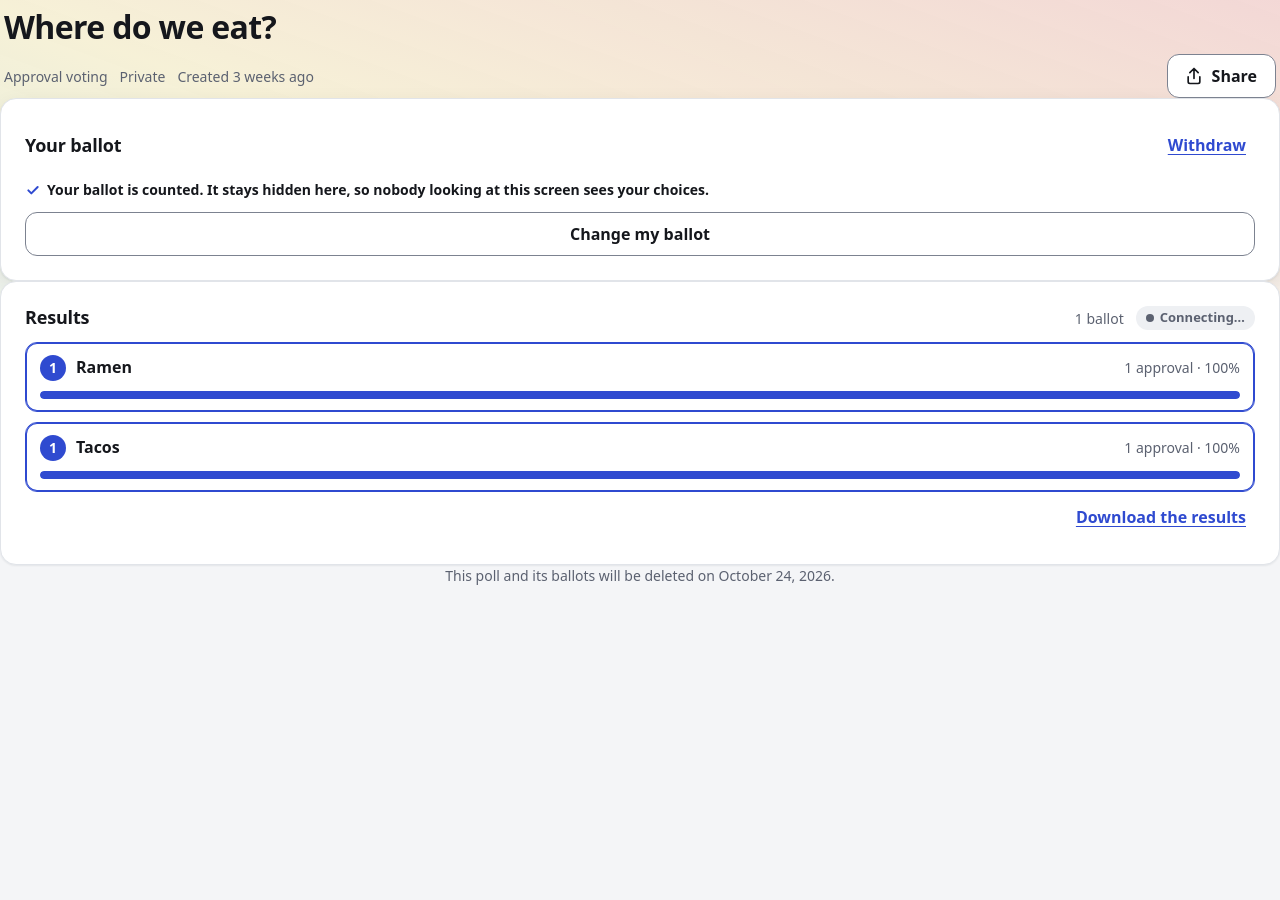
Test: a counted ballot › opens once withdrawn, to vote again
Step 1. Click the button "Withdraw" → (1207, 145), box [1159, 123, 1255, 167]
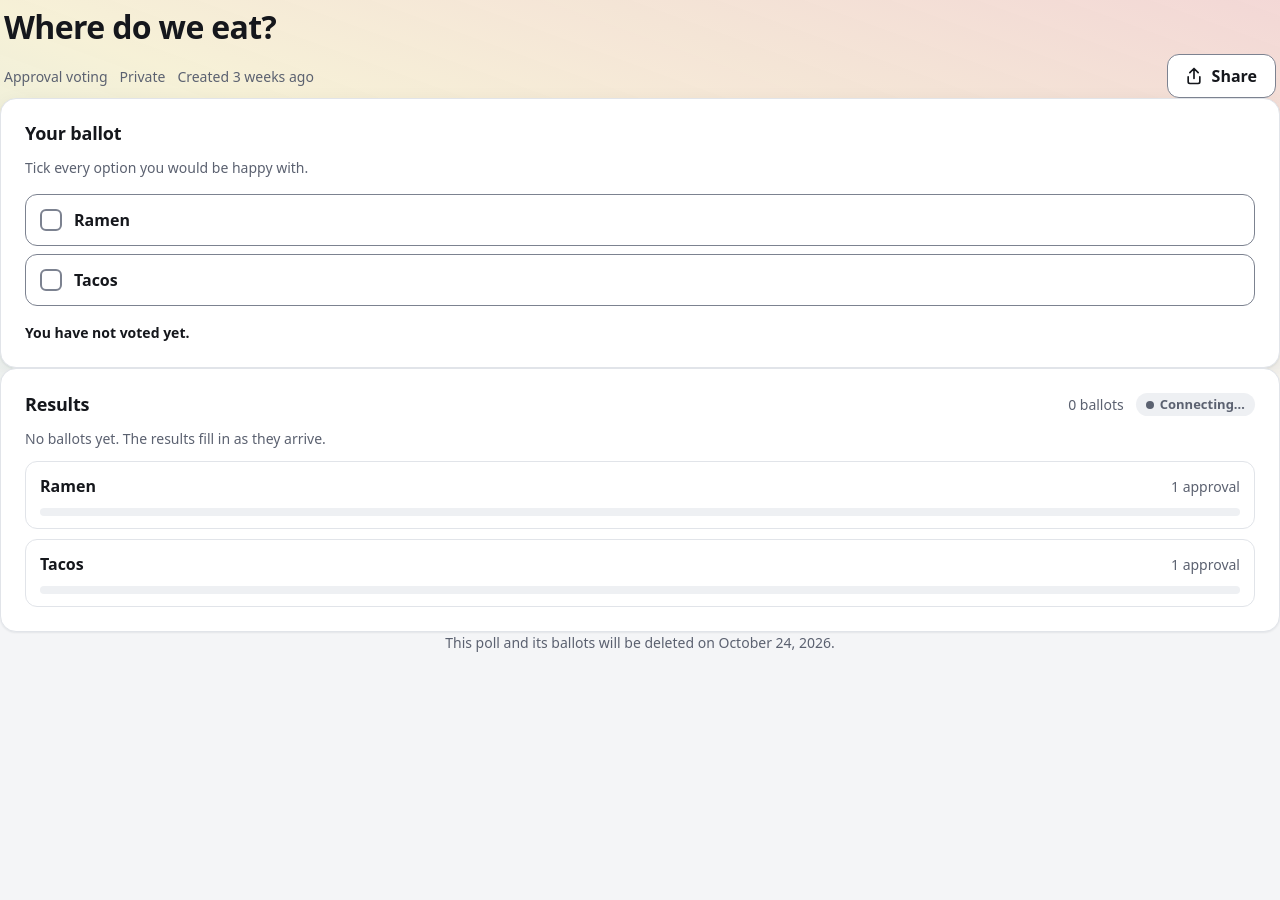
expect the text "You have not voted yet." is shown: met, box [25, 323, 190, 342]
expect the checkbox labelled "Tacos" is not checked: met, box [25, 254, 1255, 306]
